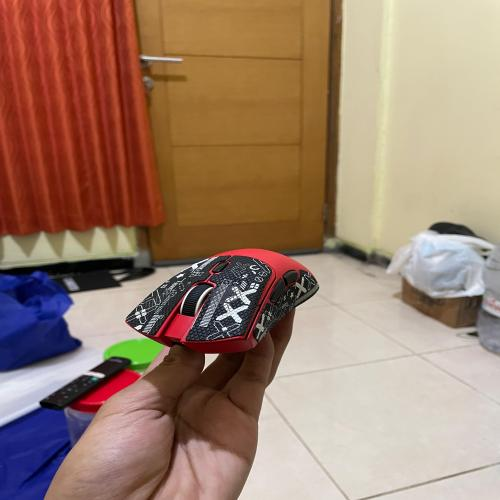mouse: (116, 232, 332, 358)
